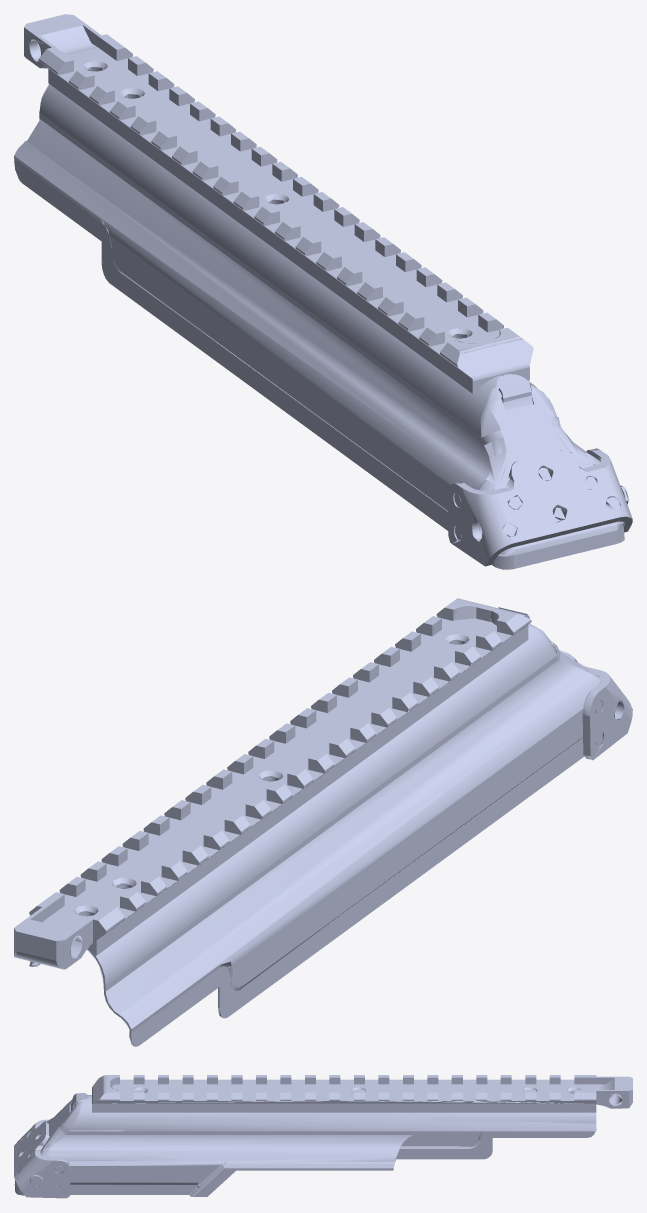
Rendered from AK12_DustCover.glb.
The picture shows the model from 3 angles, top to bottom: view 1: azimuth 30°, elevation 25°; view 2: azimuth 150°, elevation 25°; view 3: azimuth 270°, elevation 25°; orthographic projection. The views are drawn at different scales.
Parts seen in each view (by area): view 1: AK12_DustCover; view 2: AK12_DustCover; view 3: AK12_DustCover.
Boxes of the visible parts, x1=… form: AK12_DustCover: x1=14, y1=14, x2=632, y2=569; AK12_DustCover: x1=14, y1=598, x2=632, y2=1046; AK12_DustCover: x1=14, y1=1075, x2=632, y2=1198.
Bounding box in the file's own units: 0.0414 × 0.0426 × 0.2528.
